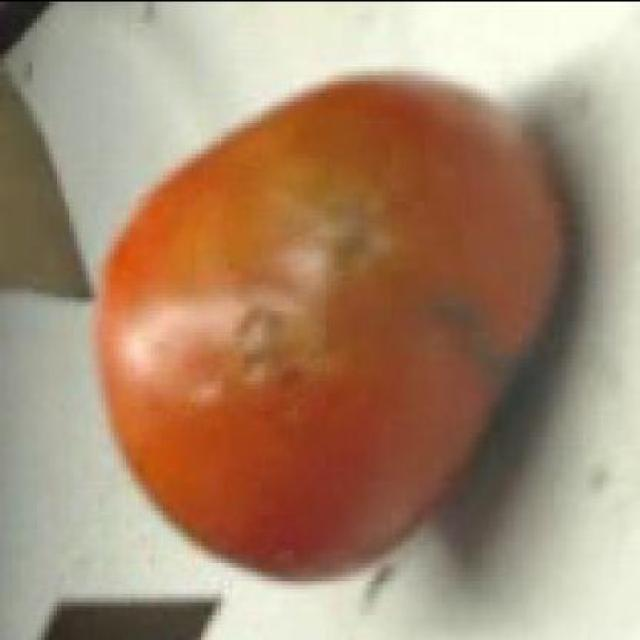overripe tomato: (100, 63, 556, 507)
